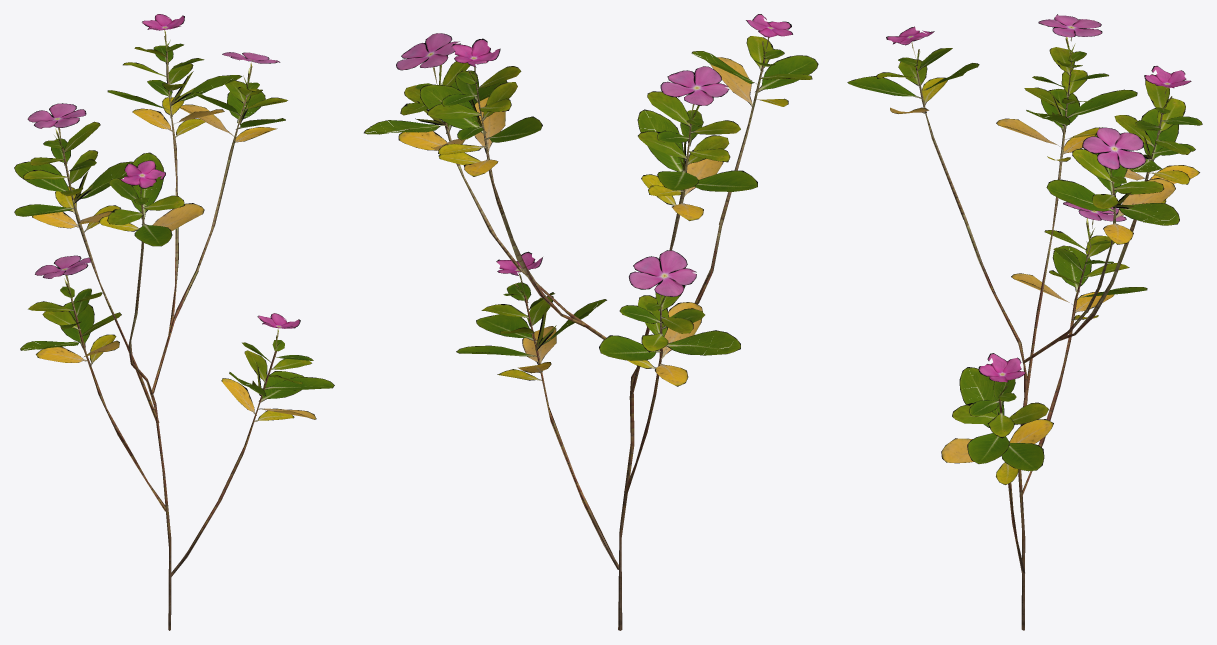
The model's file is periwinkle_plant_1.gltf.
3 renders of one model, left to right at view 1: azimuth 30°, elevation 25°; view 2: azimuth 150°, elevation 25°; view 3: azimuth 270°, elevation 25°, orthographic. The views are drawn at different scales.
Parts seen in each view (by area): view 1: periwinkle_plant_02_LOD0; view 2: periwinkle_plant_02_LOD0; view 3: periwinkle_plant_02_LOD0.
Part boxes in pixels (x1=…): periwinkle_plant_02_LOD0: x1=14, y1=14, x2=334, y2=630; periwinkle_plant_02_LOD0: x1=364, y1=14, x2=818, y2=630; periwinkle_plant_02_LOD0: x1=847, y1=14, x2=1202, y2=630.
Bounding box in the file's own units: 0.2311 × 0.4107 × 0.2248.
Materials: 1 (1 with a texture image).
